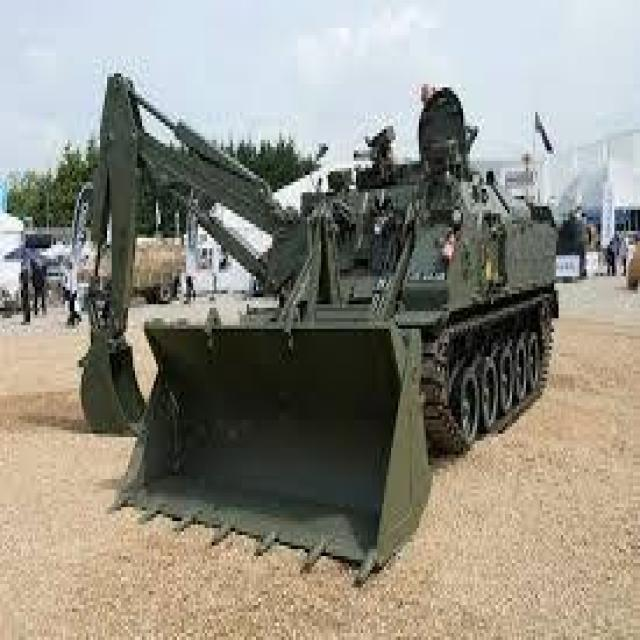Tanks: (80, 61, 564, 572)
